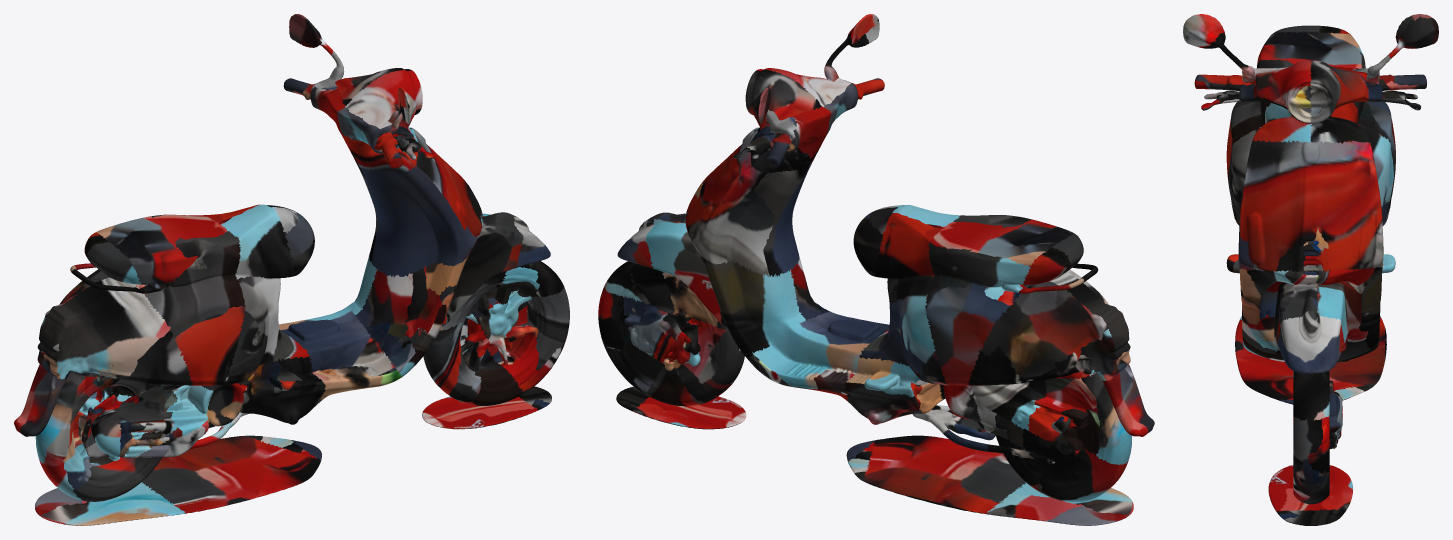
The picture shows the model from 3 angles, left to right: view 1: azimuth 30°, elevation 25°; view 2: azimuth 150°, elevation 25°; view 3: azimuth 270°, elevation 25°; orthographic projection. The views are drawn at different scales.
Parts seen in each view (by area): view 1: tripo_node_20ecadb1-8326-405d-bdcb-661c794e7682; view 2: tripo_node_20ecadb1-8326-405d-bdcb-661c794e7682; view 3: tripo_node_20ecadb1-8326-405d-bdcb-661c794e7682.
Boxes of the visible parts, x1,y1,x2,y2 form: tripo_node_20ecadb1-8326-405d-bdcb-661c794e7682: [14, 14, 569, 525]; tripo_node_20ecadb1-8326-405d-bdcb-661c794e7682: [598, 14, 1154, 525]; tripo_node_20ecadb1-8326-405d-bdcb-661c794e7682: [1183, 14, 1438, 525].
Size of the model in its own units: 100 by 67.98 by 38.21.
